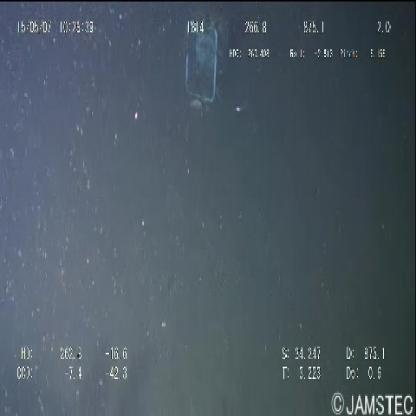Rác: (178, 12, 224, 117)
